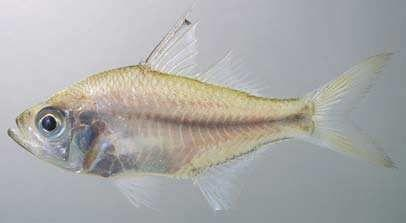Glass Perchlet: (8, 2, 400, 215)
